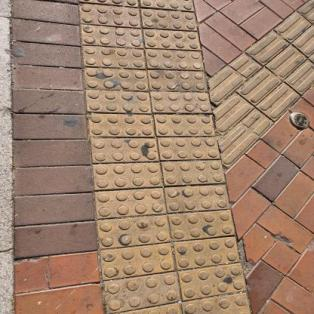Podoctatil: (75, 0, 313, 313)
